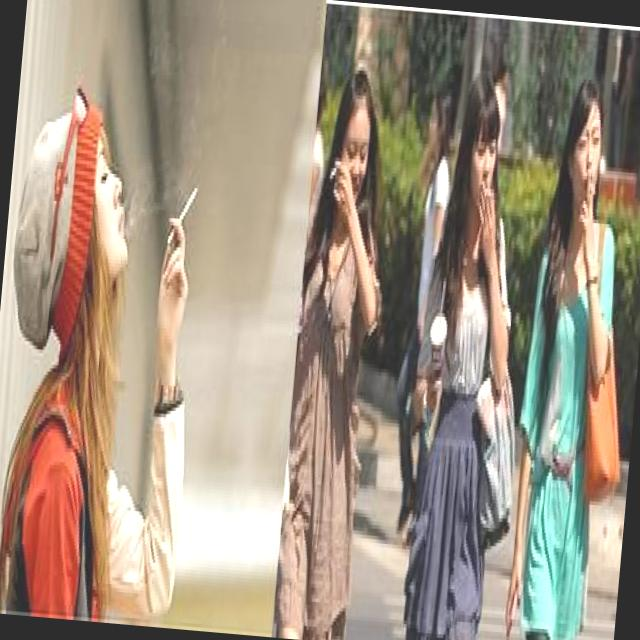cigarette: (160, 150, 204, 262), (322, 142, 346, 194), (476, 162, 498, 206), (584, 158, 602, 202)
